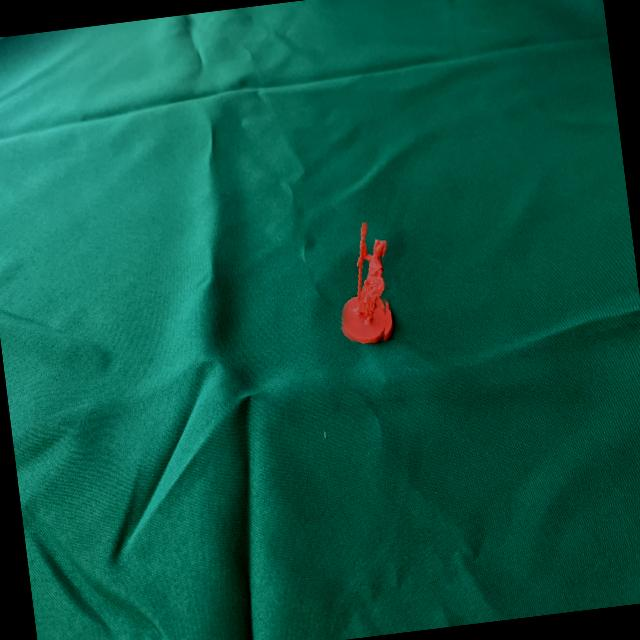amon_follower: (341, 222, 388, 343)
